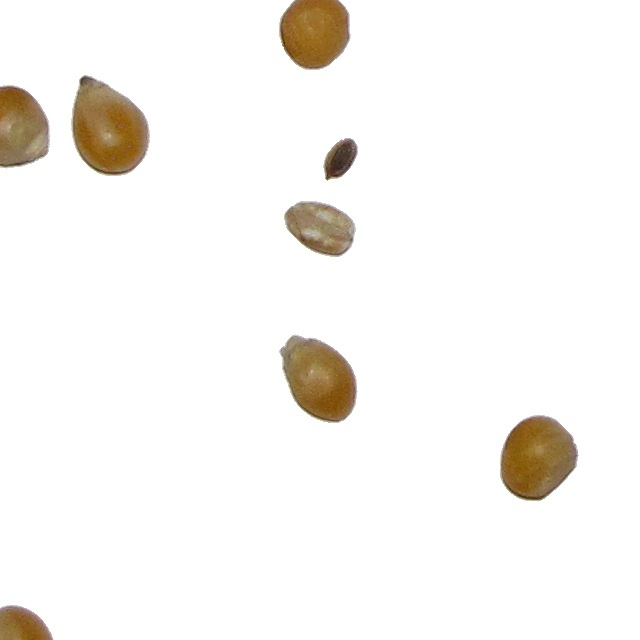buckwheat: (322, 137, 359, 182)
mais: (70, 74, 151, 177), (278, 333, 359, 424), (499, 414, 580, 502)
other: (286, 200, 360, 258)
